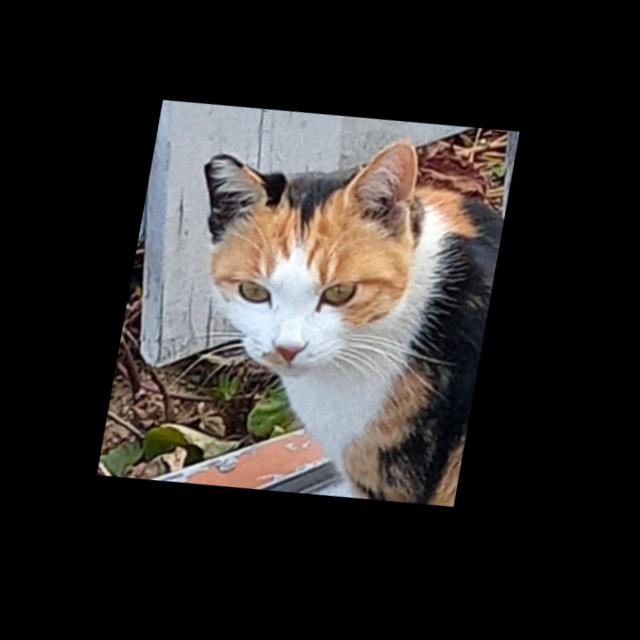animals: (170, 109, 453, 406)
